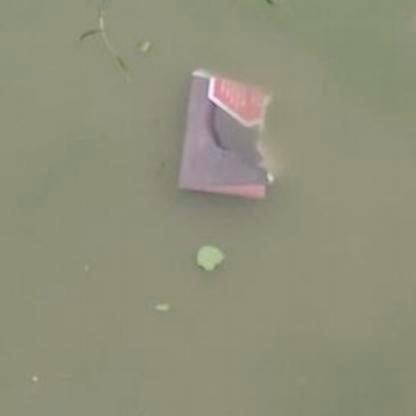Trash: (175, 68, 276, 201)
